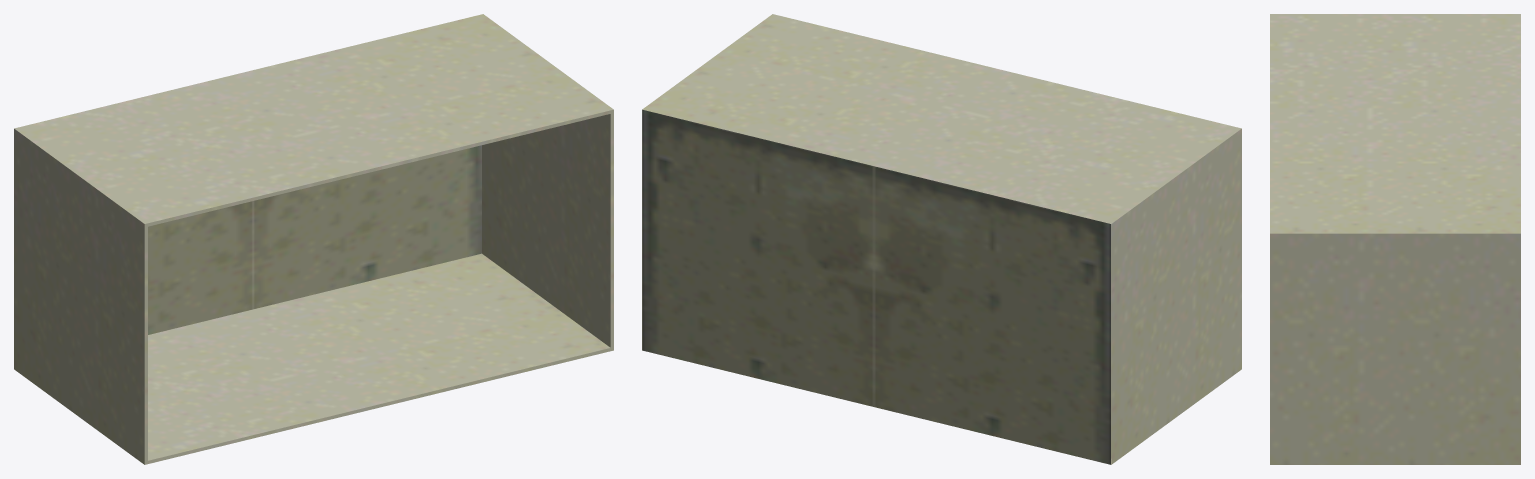
File: file_cabinet_large_open.fbx
3 views of the same model, side by side, from view 1: azimuth 30°, elevation 25°; view 2: azimuth 150°, elevation 25°; view 3: azimuth 270°, elevation 25° (orthographic). The views are drawn at different scales.
Parts seen in each view (by area): view 1: file_cabinet_large_open; view 2: file_cabinet_large_open; view 3: file_cabinet_large_open.
Boxes of the visible parts, <box> form: file_cabinet_large_open: <box>14,14,613,464</box>; file_cabinet_large_open: <box>642,14,1241,464</box>; file_cabinet_large_open: <box>1270,14,1520,464</box>.
Bounding box in the file's own units: 145 × 71.14 × 69.94.
1 material, 1 textured.
